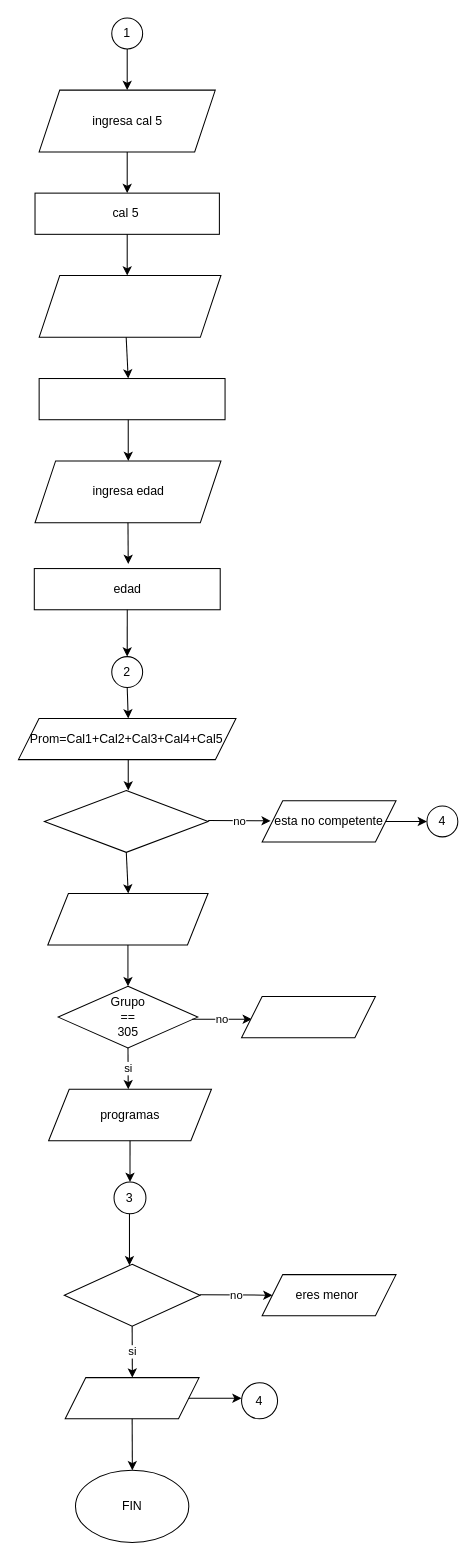
This 476x1560 diagram has some shape labels left out. Here are the shapes that lost their labels. From the top down, the centre of each, then its label:
(129,305): ingresa grupo
(131,398): grupo
(125,820): Si prom >=7
(127,918): eres competente
(308,1016): eres de medios digitales
(131,1294): edad >= 18
(131,1398): eres mayor
